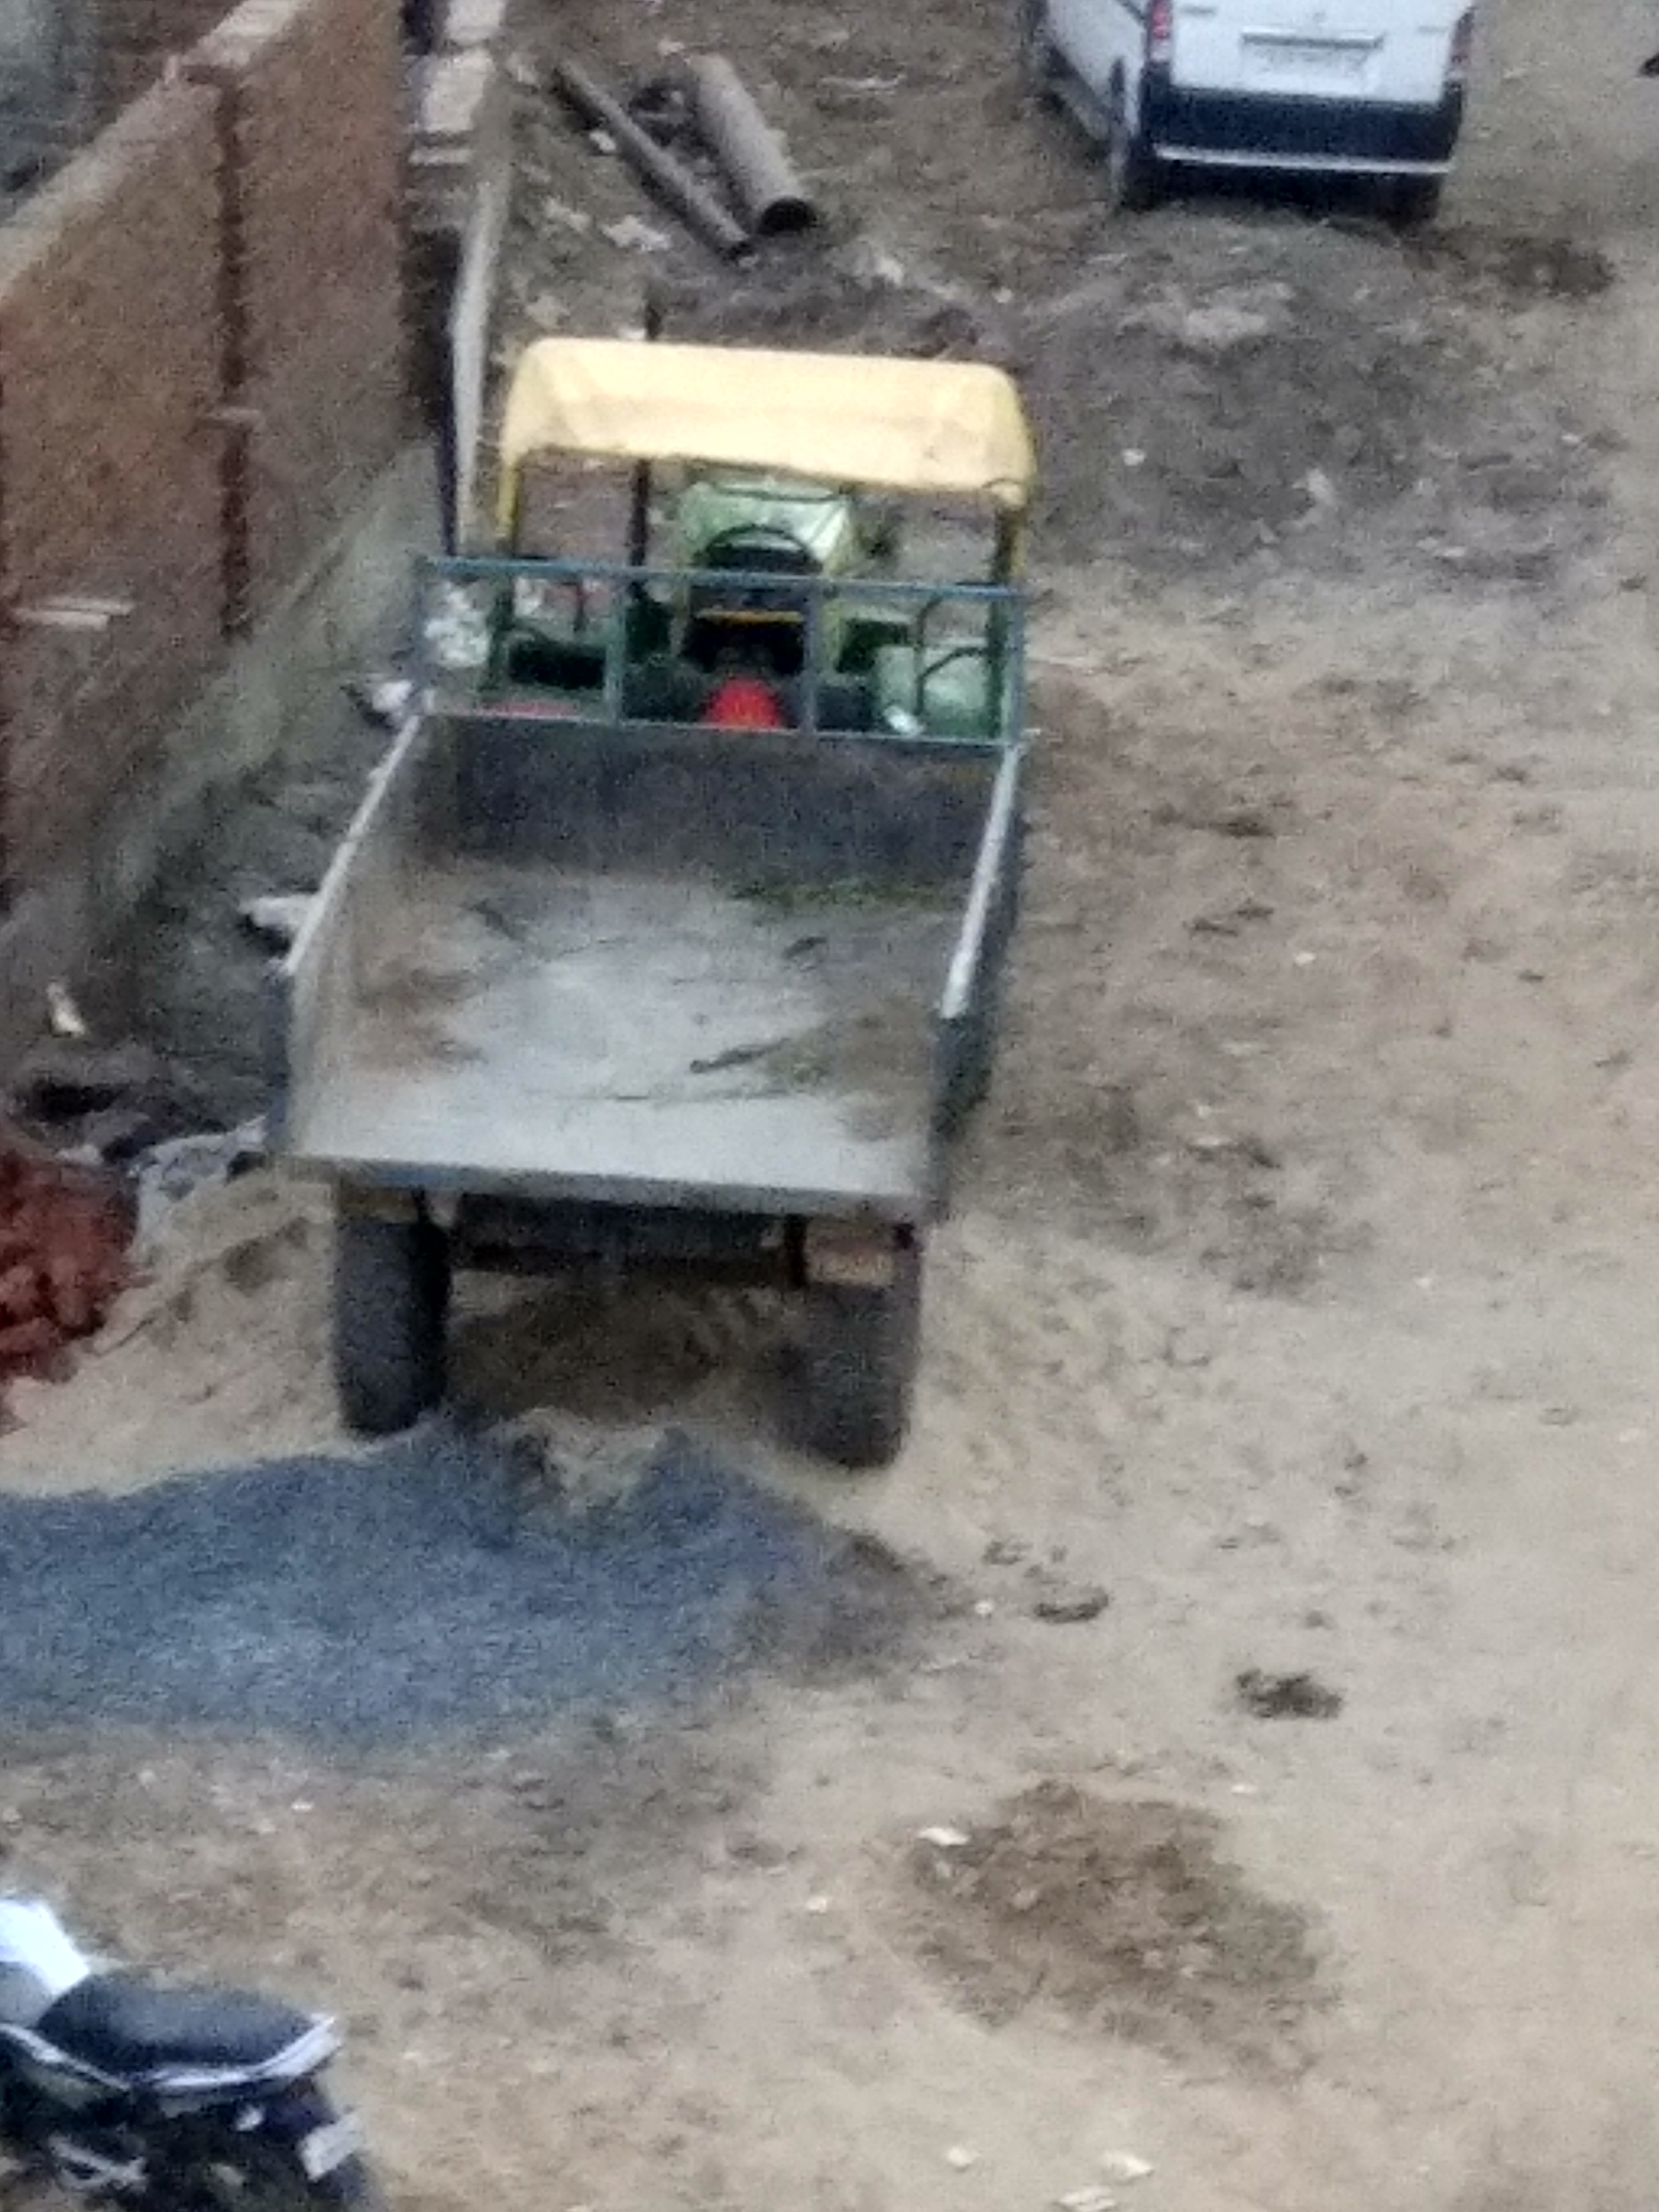tractor: (249, 289, 1044, 1477)
